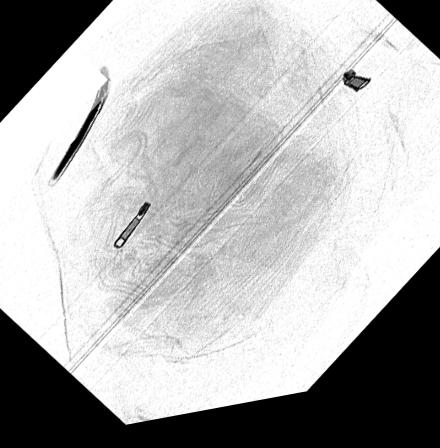Powerbank: (43, 79, 110, 188)
